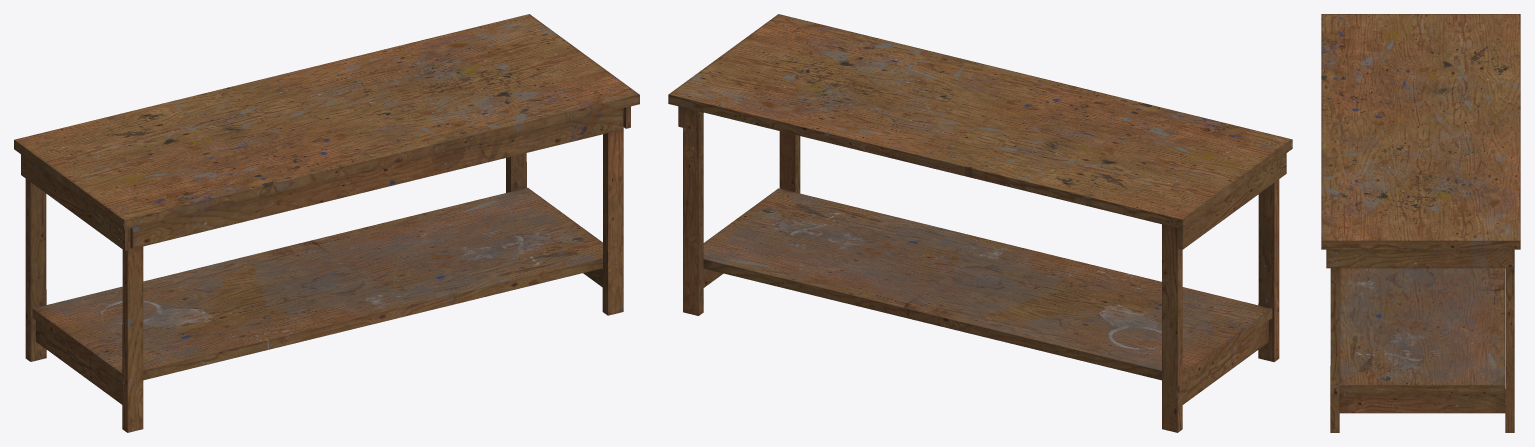
The model's file is ZhuoZi.fbx.
3 views of the same model, side by side, from view 1: azimuth 30°, elevation 25°; view 2: azimuth 150°, elevation 25°; view 3: azimuth 270°, elevation 25° (orthographic). The views are drawn at different scales.
Parts seen in each view (by area): view 1: MuZhuoZi; view 2: MuZhuoZi; view 3: MuZhuoZi.
Part boxes in pixels (box(x1,y1,x2,y2)): MuZhuoZi: box(14, 14, 639, 432); MuZhuoZi: box(668, 14, 1292, 432); MuZhuoZi: box(1321, 14, 1520, 432).
Bounding box in the file's own units: 248 × 100 × 92.04.
